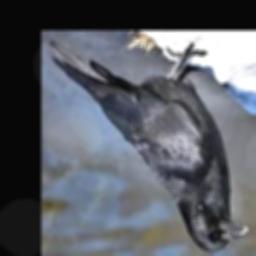Crow: (47, 39, 248, 253)
